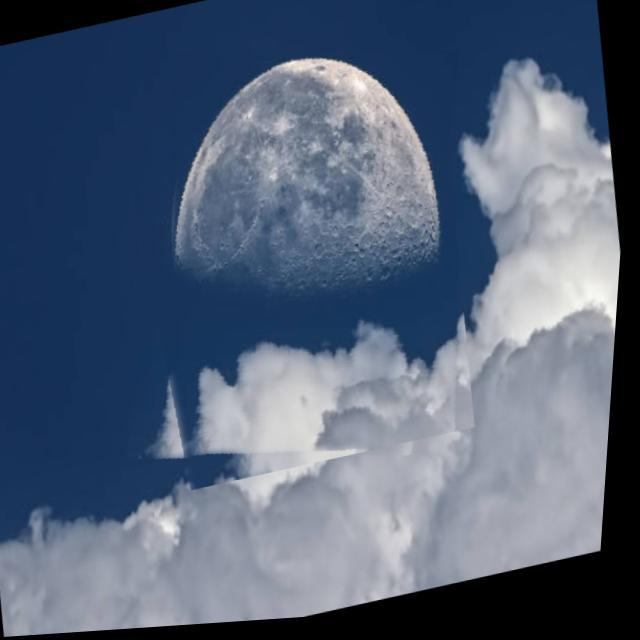moon: (90, 11, 503, 506)
